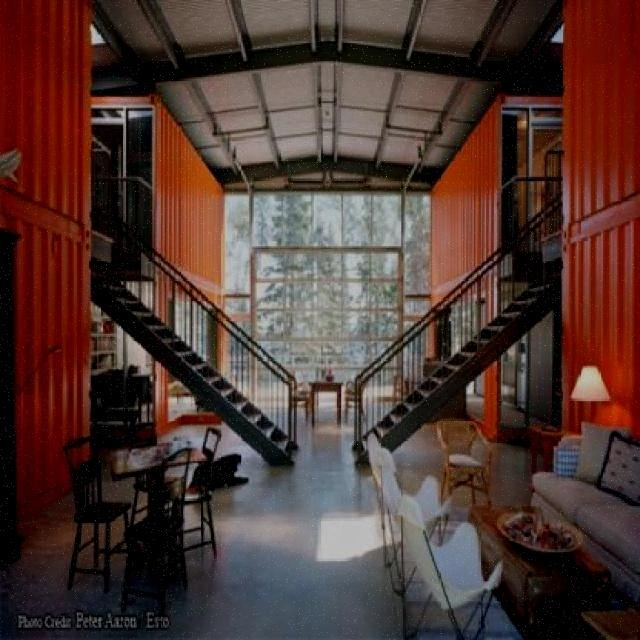stair: (349, 270, 563, 464), (90, 270, 298, 467)
